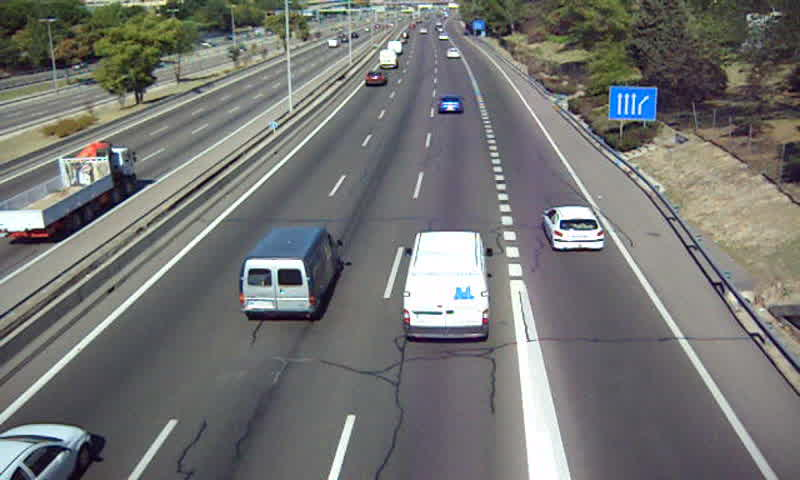car: (542, 205, 605, 253), (436, 95, 465, 114), (364, 70, 388, 86)
van: (402, 231, 491, 340), (241, 226, 340, 320), (378, 50, 398, 68)
